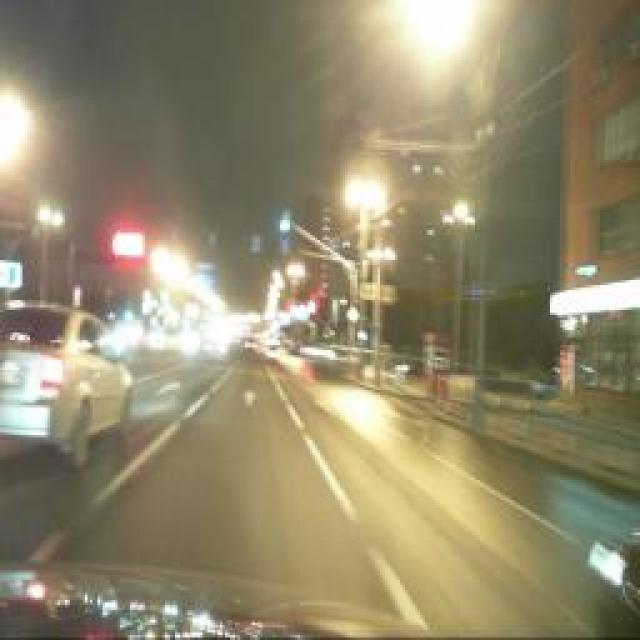sign: (251, 235, 261, 253), (330, 237, 340, 255), (281, 238, 291, 254)
